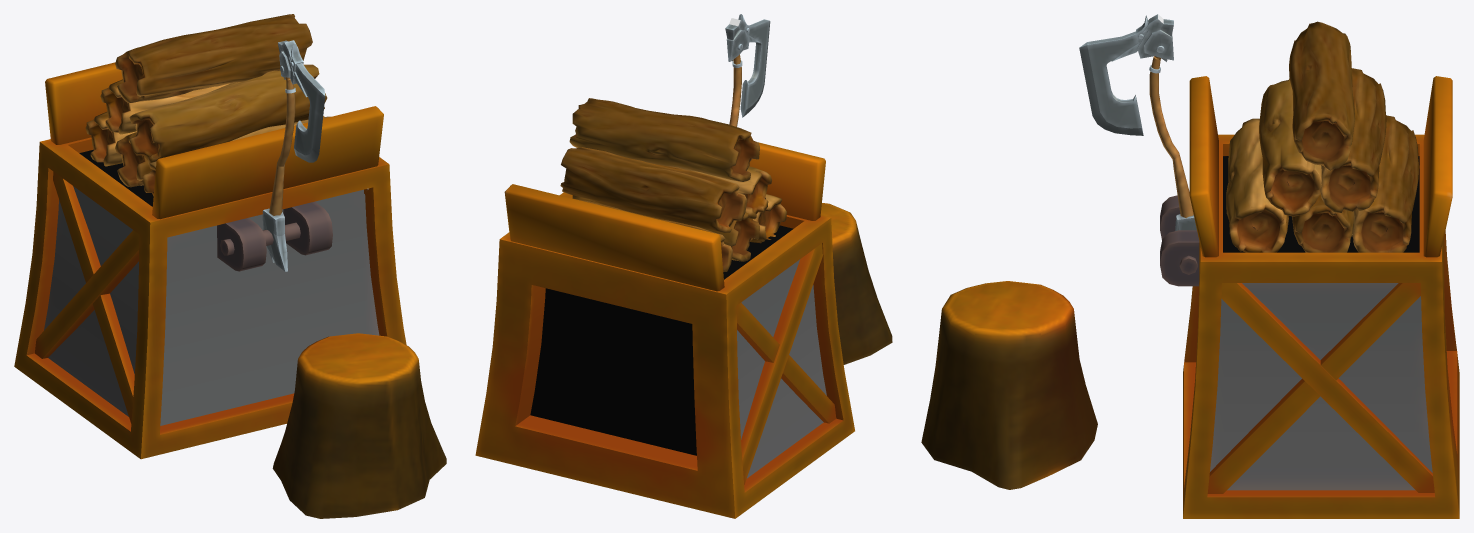
File: woodcuter.fbx
The picture shows the model from 3 angles, left to right: view 1: azimuth 30°, elevation 25°; view 2: azimuth 150°, elevation 25°; view 3: azimuth 270°, elevation 25°; orthographic projection. The views are drawn at different scales.
Parts seen in each view (by area): view 1: Cube.002_Baked, Cube.003_Baked; view 2: Cube.002_Baked, Cube.003_Baked; view 3: Cube.002_Baked, Cube.003_Baked.
Part boxes in pixels (x1,y1,x2,y2): Cube.002_Baked: (14,14,446,518); Cube.003_Baked: (262,40,325,271); Cube.002_Baked: (475,98,892,518); Cube.003_Baked: (725,14,770,126); Cube.002_Baked: (921,21,1459,518); Cube.003_Baked: (1079,14,1196,230).
Bounding box in the file's own units: 96 × 132 × 149.
Materials: 1 (1 with a texture image).
